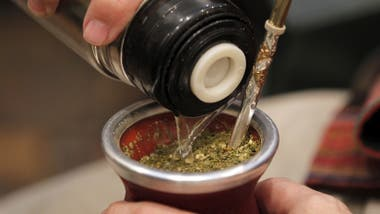guampa: (79, 1, 291, 212)
